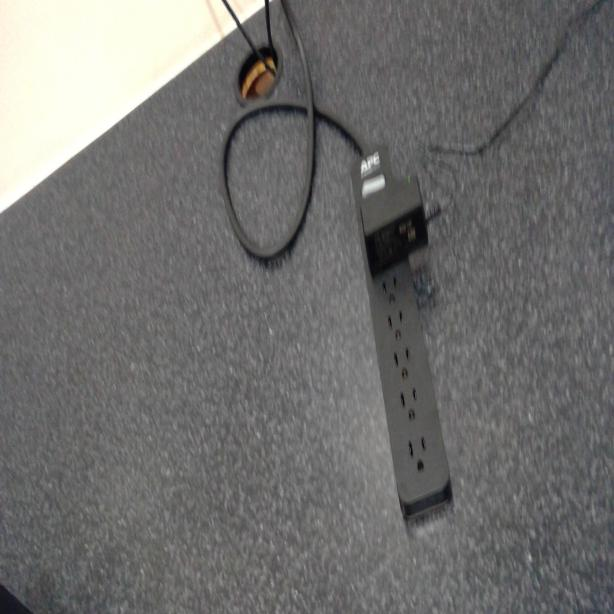typeb: (406, 436, 430, 480), (400, 386, 418, 426), (393, 347, 412, 381), (388, 307, 404, 344), (379, 274, 400, 302)
